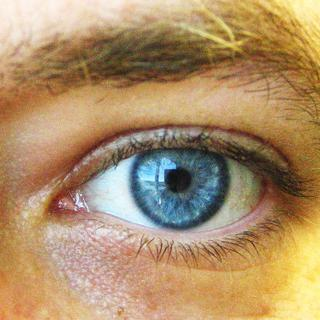pupil: (166, 167, 191, 192)
